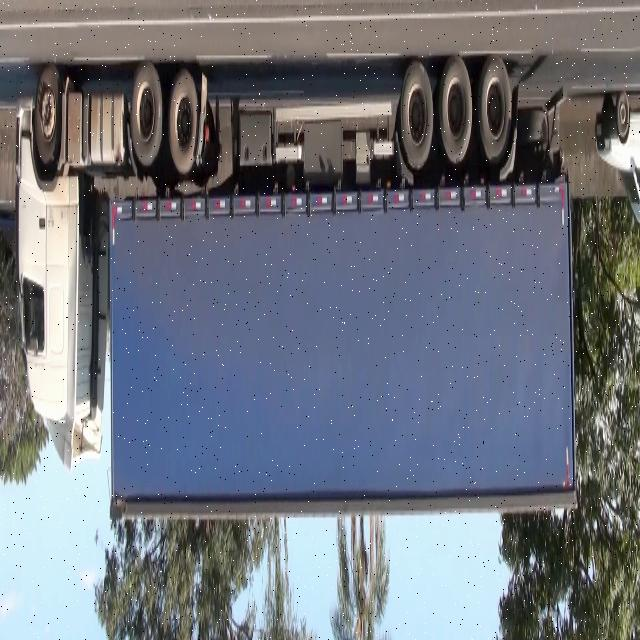-axle: (476, 46, 513, 169), (128, 60, 165, 169), (168, 60, 202, 176), (398, 59, 432, 172), (441, 58, 473, 162), (32, 59, 62, 167)
